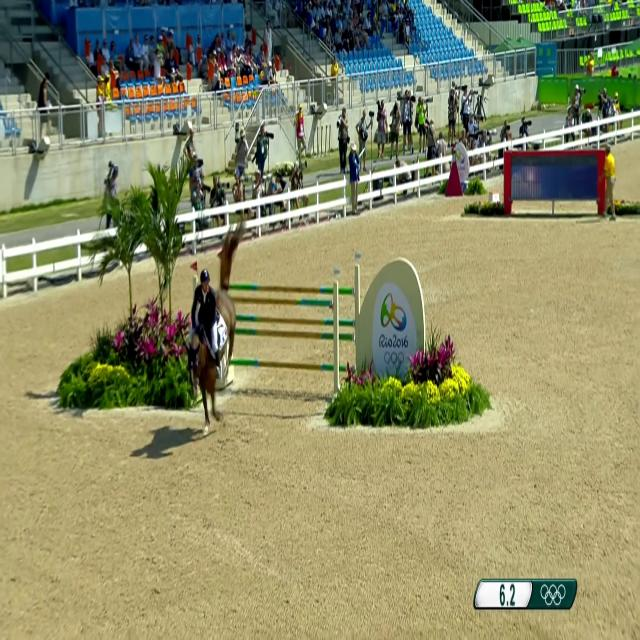Horse Running: (183, 275, 242, 432)
